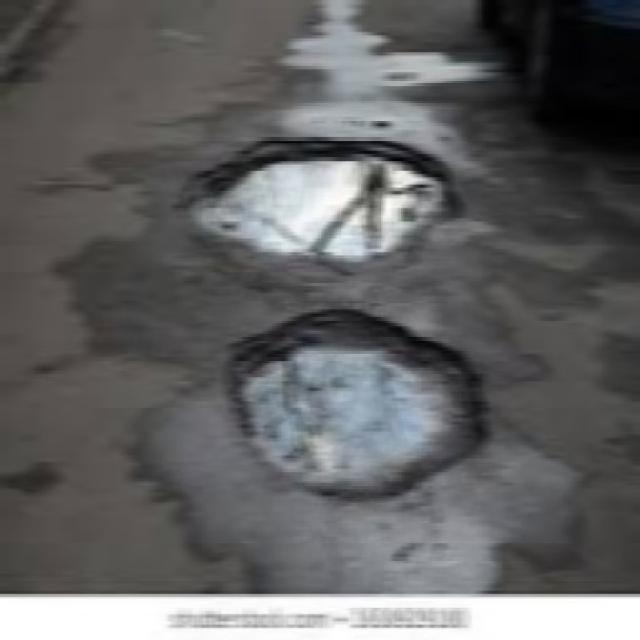Pothole: (218, 298, 514, 516), (170, 114, 466, 268)
